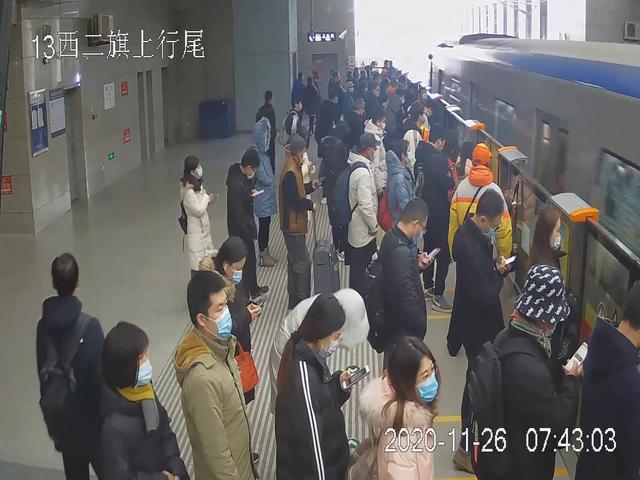person: (470, 265, 587, 480), (174, 269, 261, 480), (35, 253, 112, 480), (453, 190, 514, 472), (272, 293, 361, 480), (378, 197, 432, 370), (412, 126, 457, 313), (224, 148, 271, 302), (280, 135, 319, 307), (342, 132, 381, 301), (176, 154, 216, 291)
